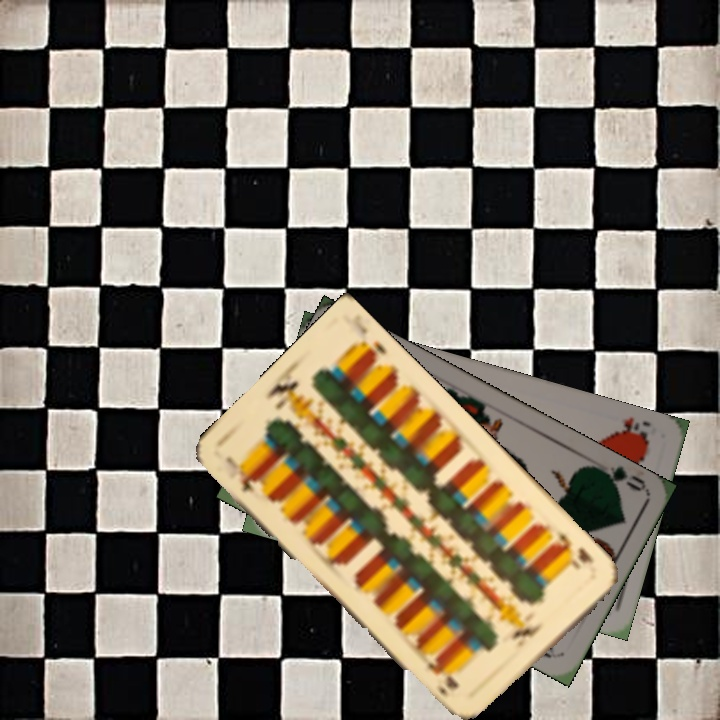E10: (549, 526, 596, 571), (222, 452, 266, 496)
GO: (590, 462, 648, 494)
HO: (611, 412, 654, 445)
